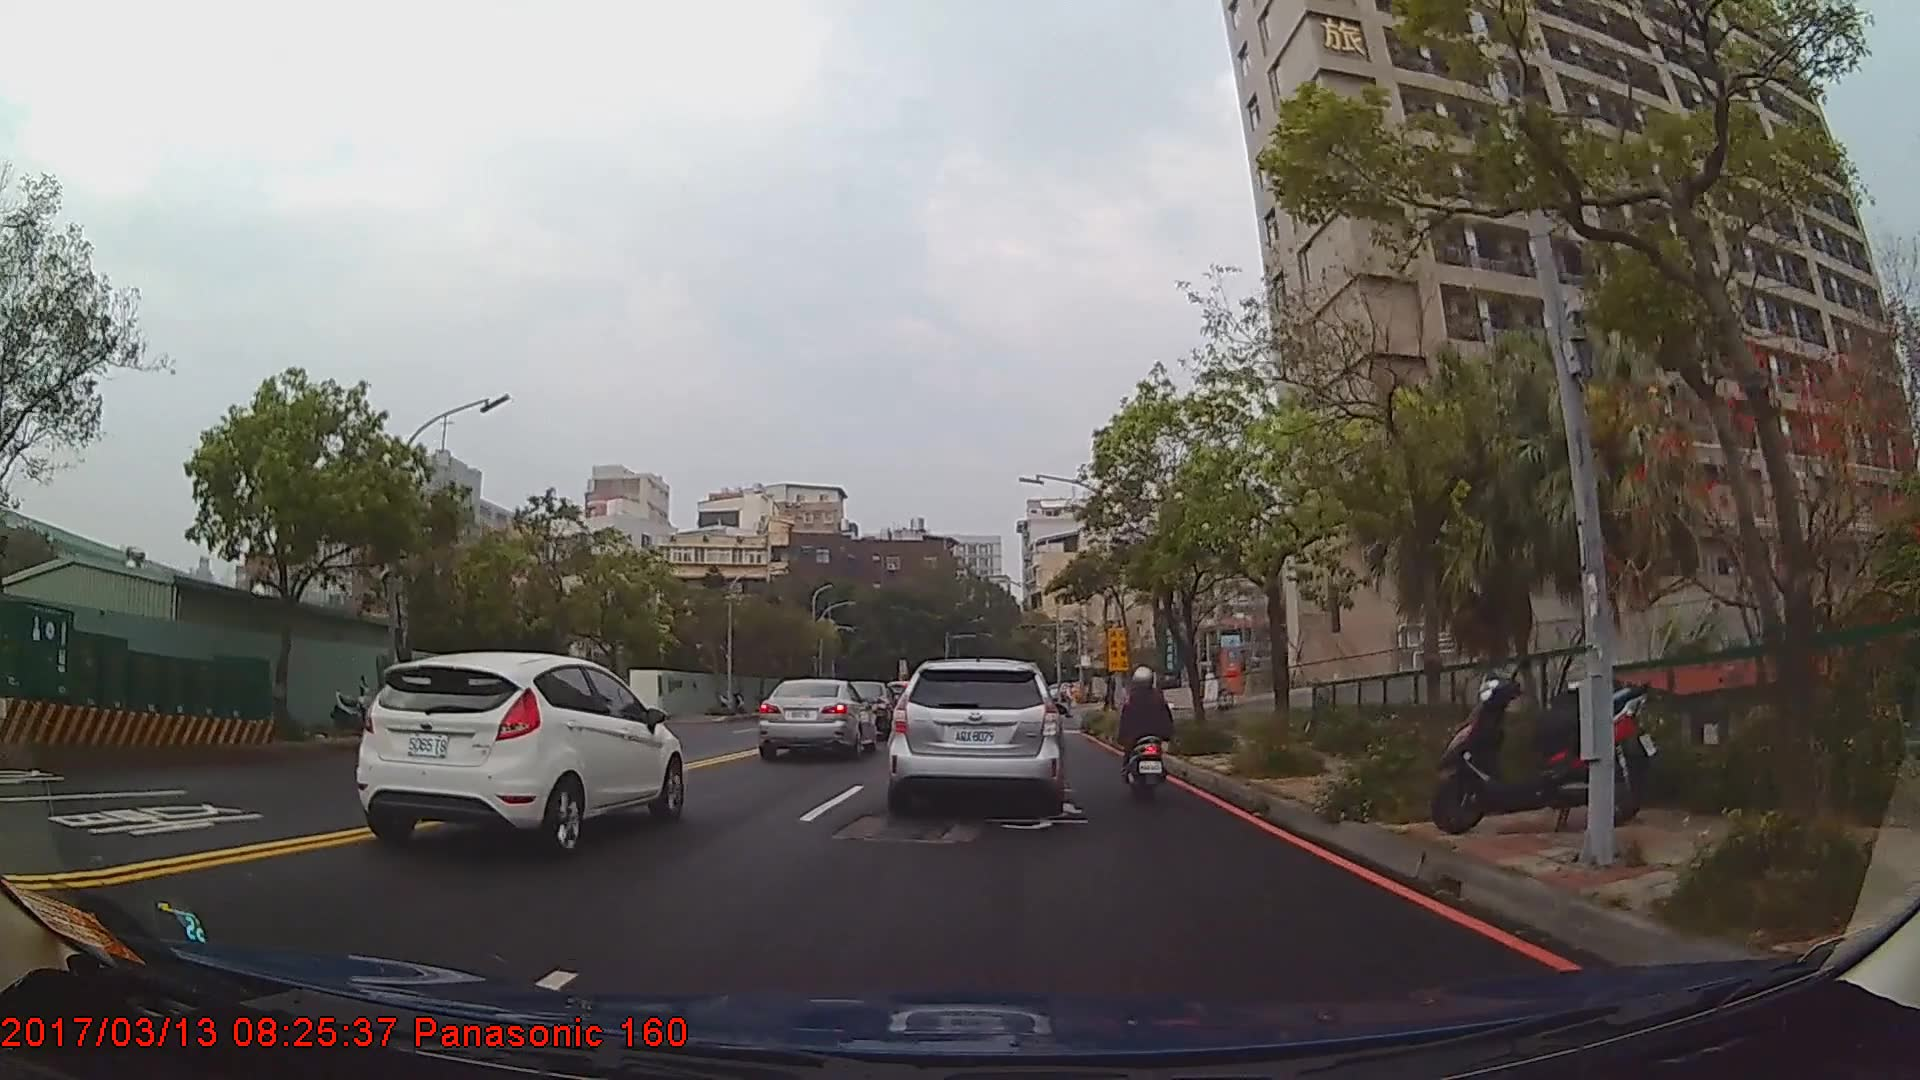rider: (1118, 668, 1174, 805)
vehicle: (354, 651, 683, 855), (888, 659, 1060, 815), (753, 678, 876, 761)
